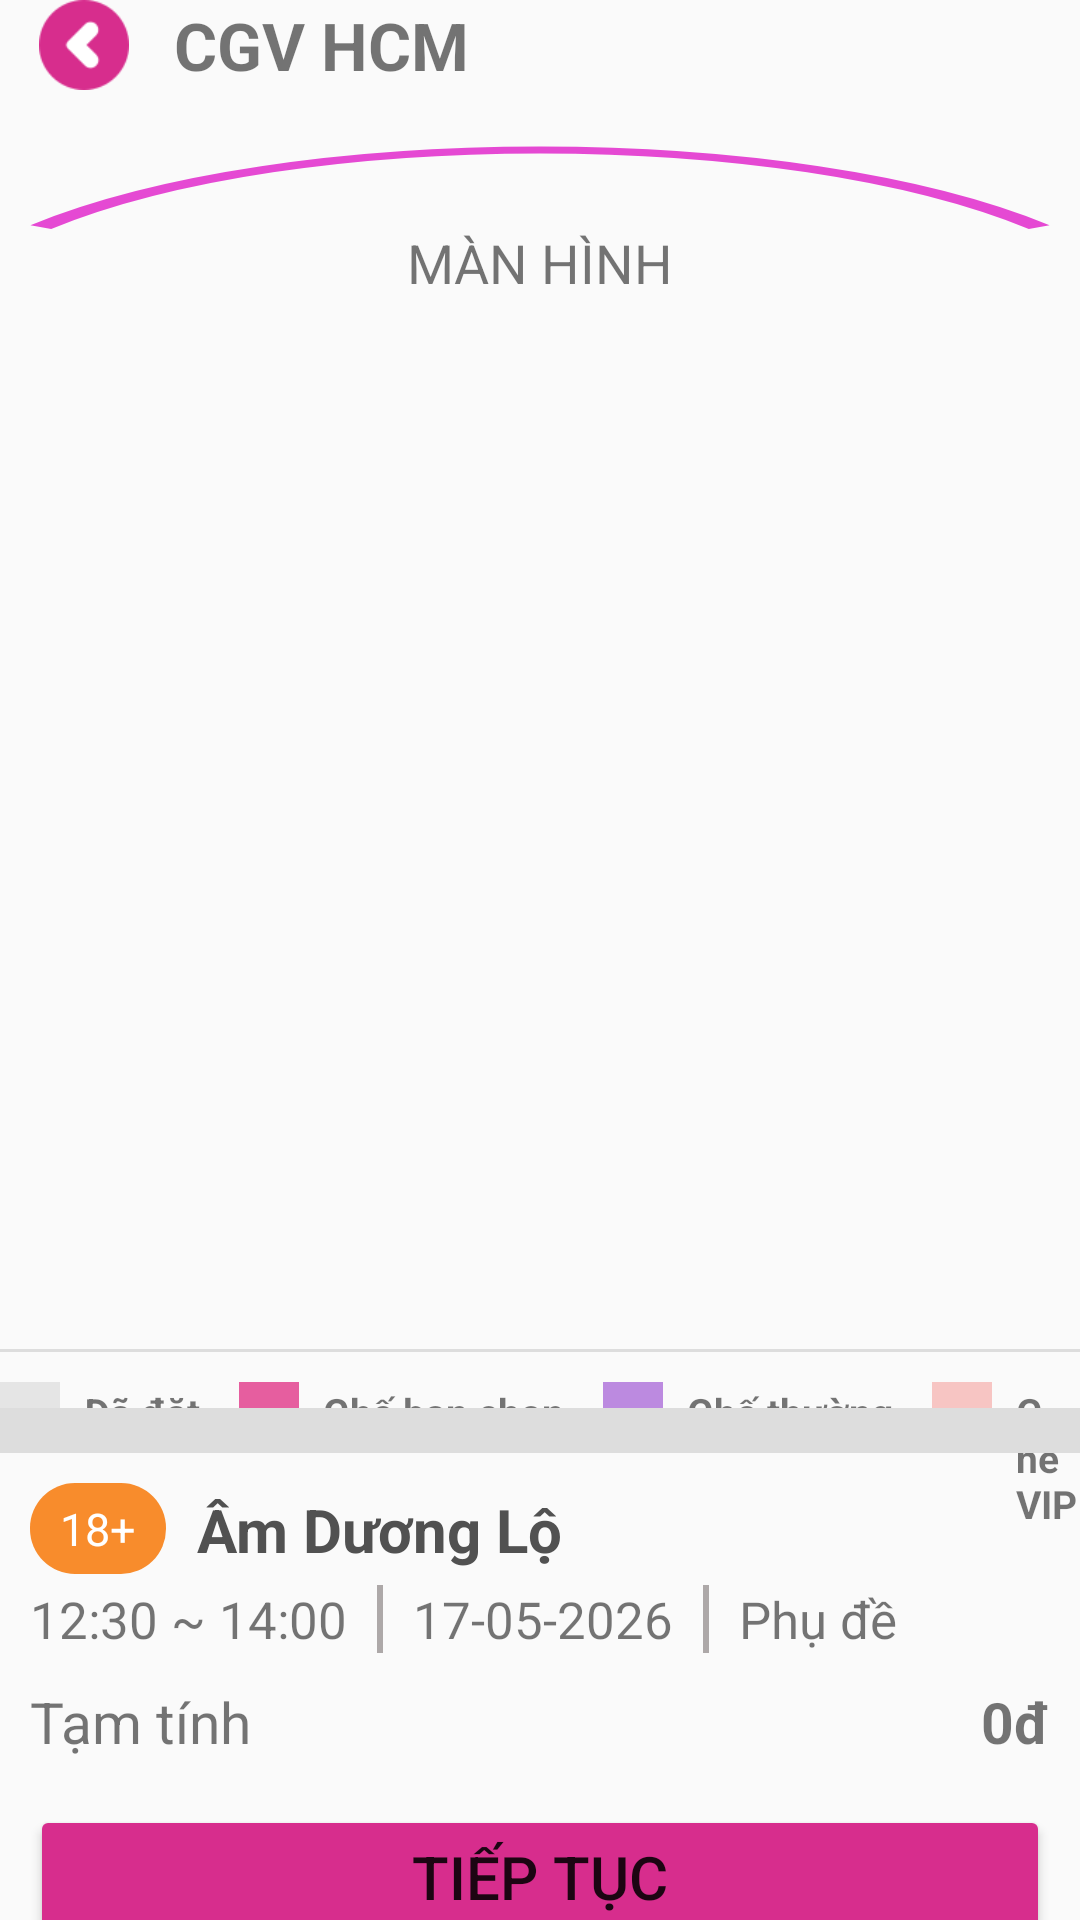

Where to tap for icons on this 1080×1920 app screen, as (x=x, y=y):
back: (x=84, y=45)
